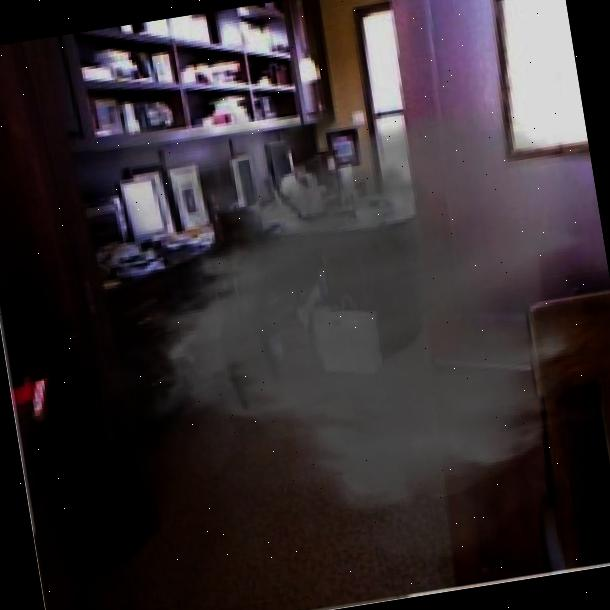smoke: (57, 30, 610, 610)
